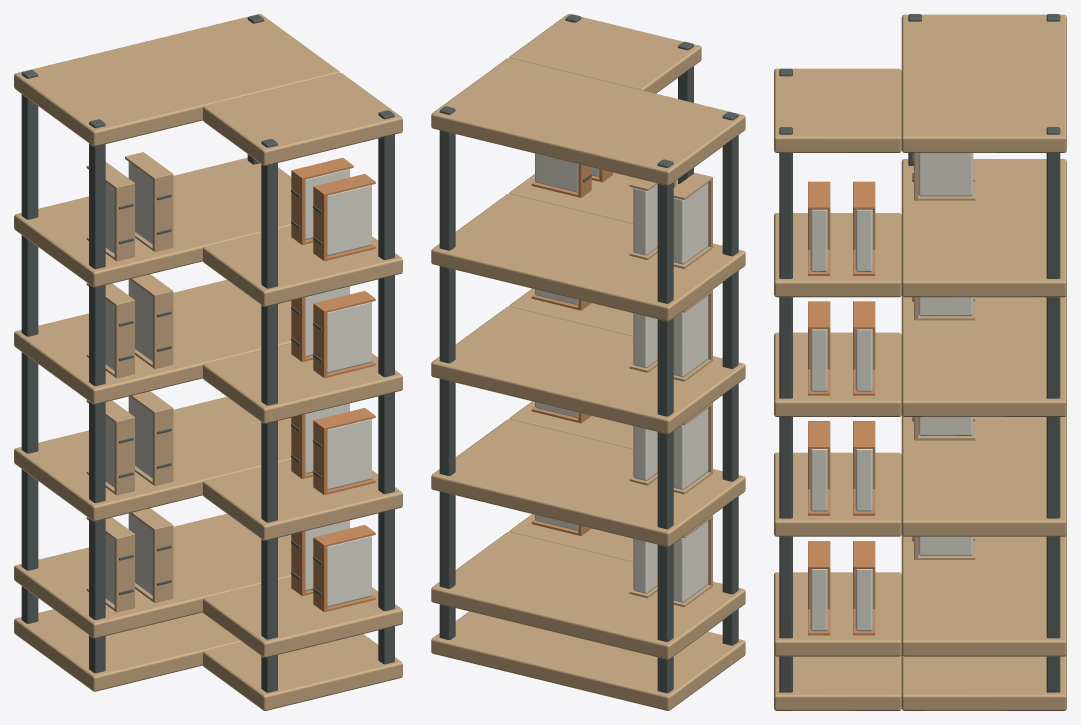
Rendered from public-library-and-reading-garden-public-library-and-r-31a8d131__30915.glb.
The picture shows the model from 3 angles, left to right: view 1: azimuth 30°, elevation 25°; view 2: azimuth 150°, elevation 25°; view 3: azimuth 270°, elevation 25°; orthographic projection. The views are drawn at different scales.
Parts seen in each view (by area): view 1: public-library-and-reading-garden-library-stack-corner; view 2: public-library-and-reading-garden-library-stack-corner; view 3: public-library-and-reading-garden-library-stack-corner.
Part boxes in pixels (x1=…): public-library-and-reading-garden-library-stack-corner: x1=14, y1=14, x2=402, y2=710; public-library-and-reading-garden-library-stack-corner: x1=431, y1=14, x2=745, y2=710; public-library-and-reading-garden-library-stack-corner: x1=774, y1=14, x2=1066, y2=710.
Size of the model in its own units: 0.975 by 2.12 by 0.975.
